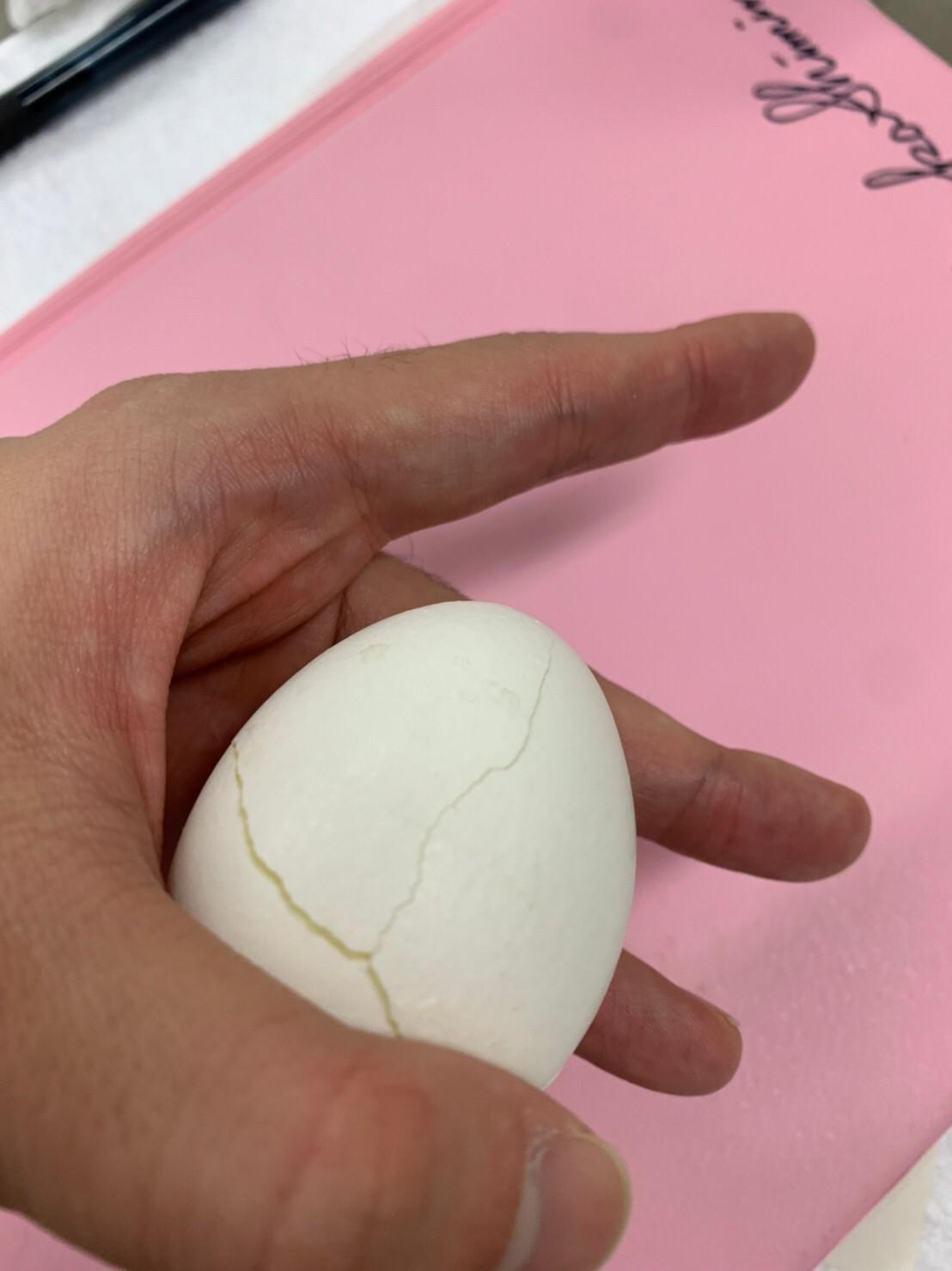egg: (159, 597, 635, 1093)
